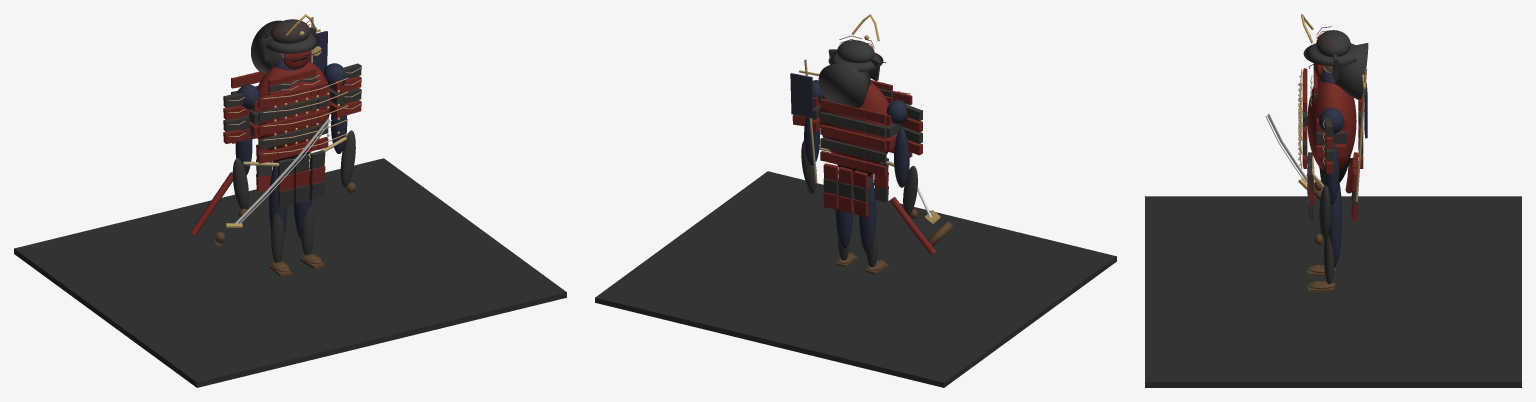
The model's file is actor-takeda-09.glb.
3 renders of one model, left to right at view 1: azimuth 30°, elevation 25°; view 2: azimuth 150°, elevation 25°; view 3: azimuth 270°, elevation 25°, orthographic. The views are drawn at different scales.
Parts seen in each view (by area): view 1: matte charcoal inspection plinth, rounded do cuirass silhouette, rear shikoro neck guard flare, segmented kabuto helmet bowl, right kote forearm guard, left kote forearm guard, wide kabuto brim, left shin greave, left hakama trouser leg, lacquered saya scabbard at left hip, right shin greave; view 2: matte charcoal inspection plinth, rear shikoro neck guard flare, rounded do cuirass silhouette, cloth sashimono banner panel, left hakama trouser leg, left armored upper arm, segmented kabuto helmet bowl, right hakama trouser leg, left kote forearm guard, right armored upper arm, lacquered saya scabbard at left hip; view 3: matte charcoal inspection plinth, rounded do cuirass silhouette, rear shikoro neck guard flare, segmented kabuto helmet bowl, right hakama trouser leg, wide kabuto brim, right armored upper arm, right kote forearm guard, right shin greave, right shoulder undercloth, bamboo sashimono back pole.
Part boxes in pixels (bbox=[...]): matte charcoal inspection plinth: bbox=[14, 158, 566, 387]; rounded do cuirass silhouette: bbox=[257, 61, 330, 150]; rear shikoro neck guard flare: bbox=[251, 20, 282, 74]; segmented kabuto helmet bowl: bbox=[270, 19, 310, 43]; right kote forearm guard: bbox=[340, 130, 355, 187]; left kote forearm guard: bbox=[232, 158, 248, 209]; wide kabuto brim: bbox=[261, 33, 319, 53]; left shin greave: bbox=[271, 213, 284, 262]; left hakama trouser leg: bbox=[269, 166, 287, 234]; lacquered saya scabbard at left hip: bbox=[190, 172, 232, 235]; right shin greave: bbox=[301, 205, 314, 255]; matte charcoal inspection plinth: bbox=[595, 171, 1116, 387]; rear shikoro neck guard flare: bbox=[818, 61, 870, 108]; rounded do cuirass silhouette: bbox=[819, 82, 888, 163]; cloth sashimono banner panel: bbox=[790, 73, 813, 118]; left hakama trouser leg: bbox=[859, 176, 876, 253]; left armored upper arm: bbox=[894, 129, 909, 187]; segmented kabuto helmet bowl: bbox=[837, 40, 874, 62]; right hakama trouser leg: bbox=[835, 180, 852, 248]; left kote forearm guard: bbox=[903, 165, 917, 215]; right armored upper arm: bbox=[804, 117, 819, 165]; lacquered saya scabbard at left hip: bbox=[889, 197, 935, 254]; matte charcoal inspection plinth: bbox=[1145, 196, 1521, 387]; rounded do cuirass silhouette: bbox=[1307, 78, 1356, 170]; rear shikoro neck guard flare: bbox=[1335, 43, 1368, 99]; segmented kabuto helmet bowl: bbox=[1316, 30, 1350, 56]; right hakama trouser leg: bbox=[1328, 189, 1341, 267]; wide kabuto brim: bbox=[1303, 43, 1356, 66]; right armored upper arm: bbox=[1323, 142, 1339, 204]; right kote forearm guard: bbox=[1319, 185, 1330, 238]; right shin greave: bbox=[1324, 234, 1334, 283]; right shoulder undercloth: bbox=[1319, 108, 1343, 134]; bamboo sashimono back pole: bbox=[1355, 68, 1367, 201].
Size of the model in its own units: 4.2 by 2.96 by 3.6.
